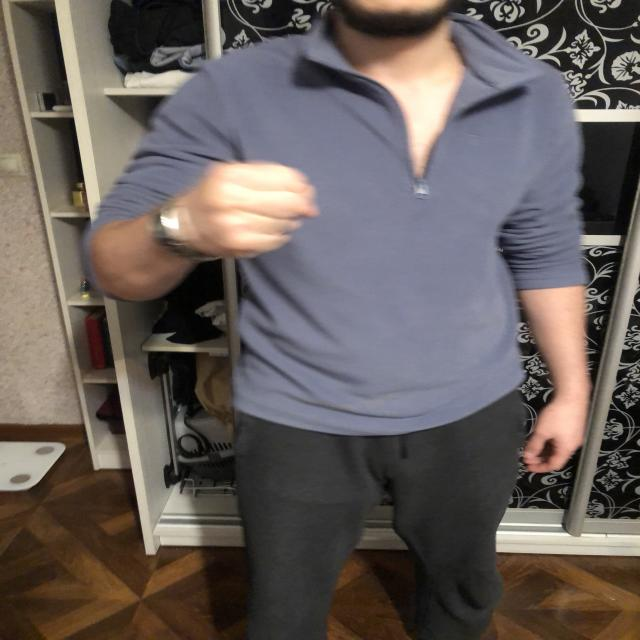rock: (199, 159, 318, 256)
